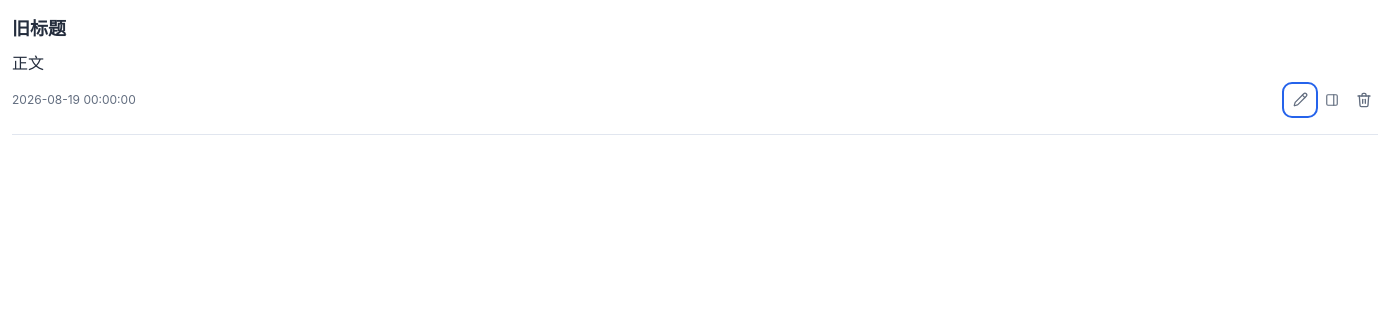
ModernNoteCard title editing › opens body editing from the common edit action and restores focus after canceling (title: 旧标题)
What coordinates should you click on to do the following:
click the button named "编辑笔记"
I would click on:
 (1300, 100)
Its box is x1=1286 y1=86 x2=1314 y2=114.
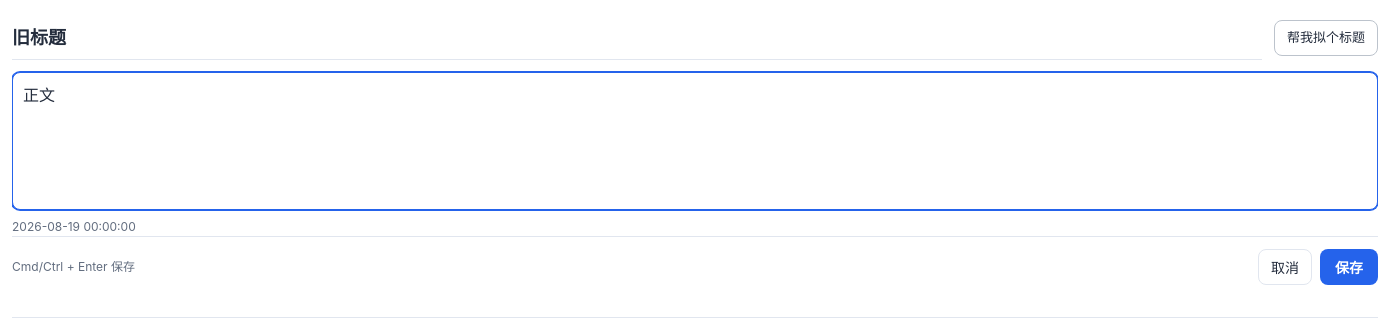
Now the field named "笔记标题" holds "旧标题", box x1=12 y1=16 x2=1262 y2=60
Now the button "编辑笔记" is gone
What coordinates should you click on to do the following:
click the button "取消"
I would click on:
 (1285, 267)
Its box is x1=1258 y1=249 x2=1312 y2=285.
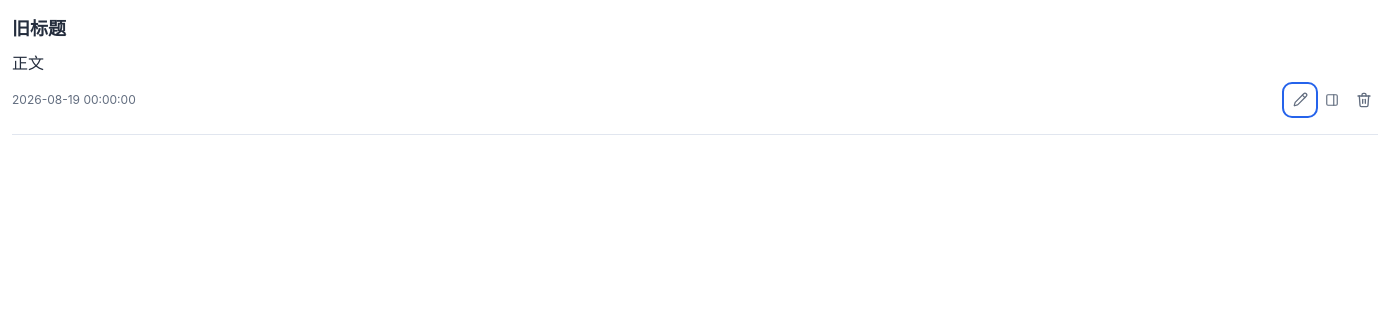
Now the field labelled "笔记标题" is gone
